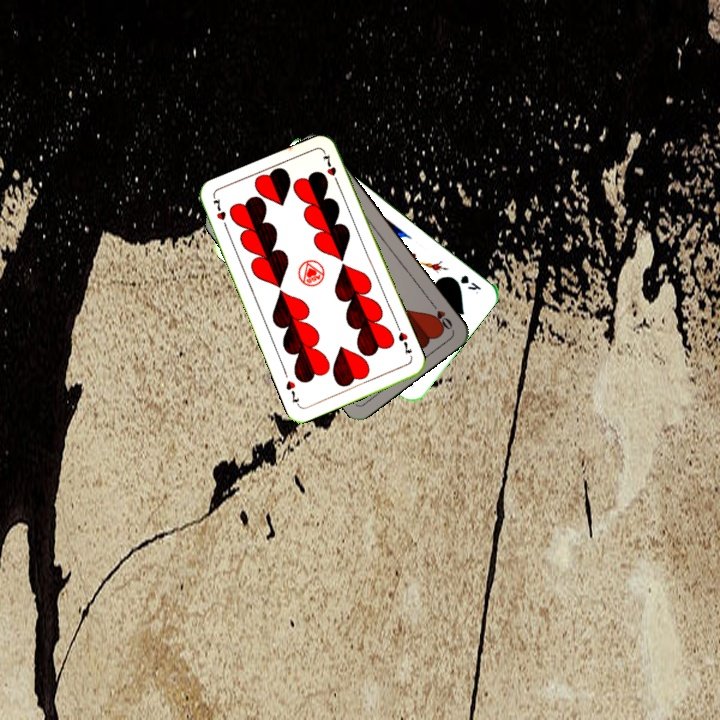GK: (456, 271, 483, 293)
H7: (209, 194, 230, 233), (394, 328, 415, 357)
HO: (426, 297, 455, 332)
